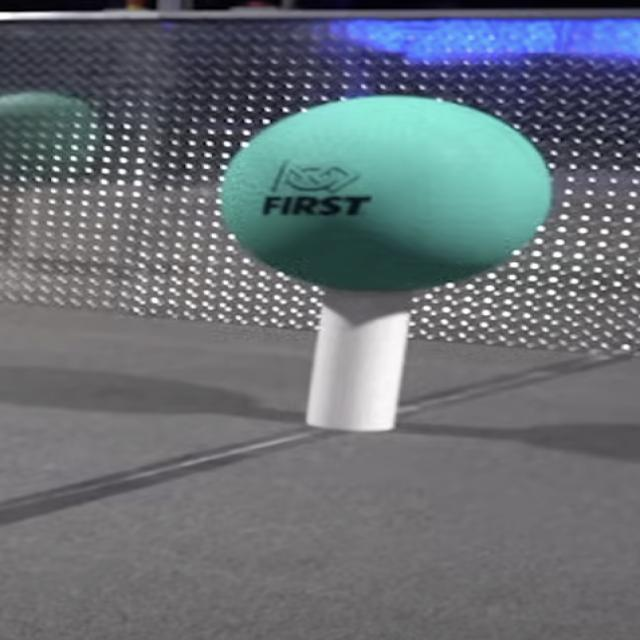Algae: (222, 96, 548, 290)
Coral: (304, 291, 424, 432)
